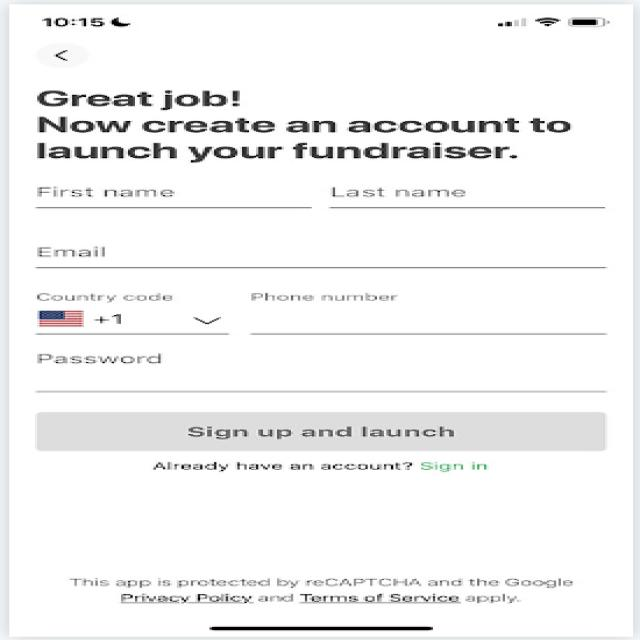button: (30, 406, 617, 456)
icon button: (27, 36, 112, 78)
input: (21, 284, 617, 340), (18, 222, 610, 276), (24, 345, 617, 397), (314, 167, 614, 217), (21, 166, 312, 216)
spacer: (33, 487, 624, 559)
text: (24, 82, 596, 164), (53, 566, 603, 611), (126, 458, 517, 478)
